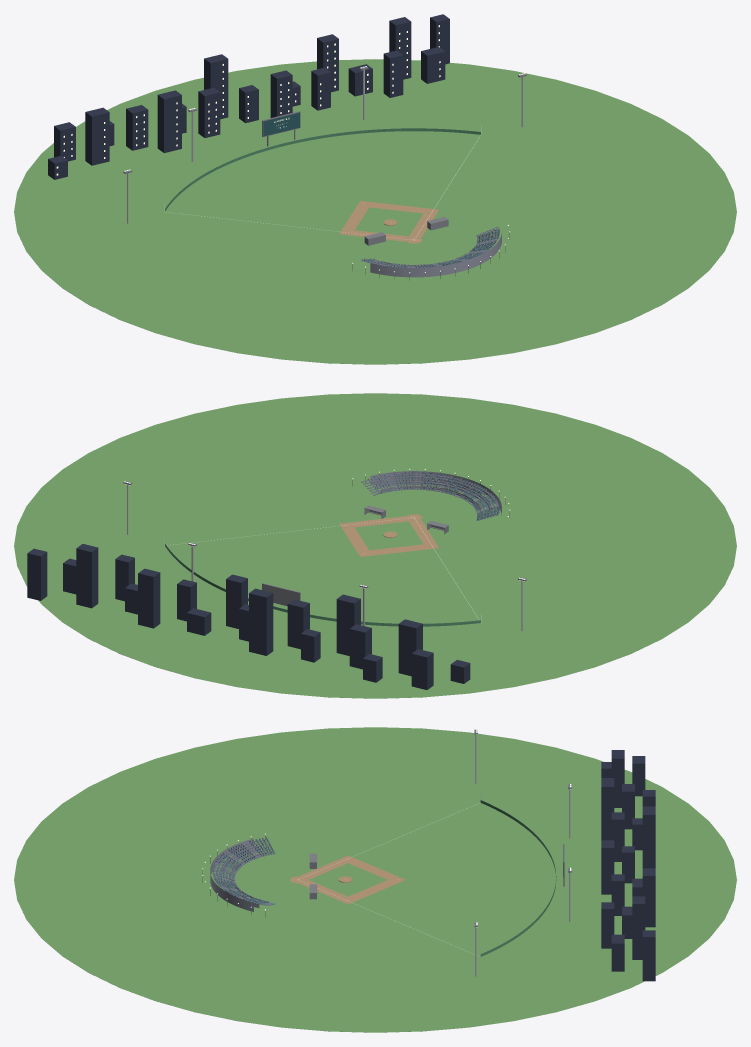
File: lantern-field.glb
3 renders of one model, top to bottom at view 1: azimuth 30°, elevation 25°; view 2: azimuth 150°, elevation 25°; view 3: azimuth 270°, elevation 25°, orthographic.
Parts seen in each view (by area): view 1: grass_outfield, park_batch_mat_skyline, infield_dirt, infield_grass, stands_tier_2, outfield_fence, park_batch_mat_park_seating, park_batch_mat_park_teal; view 2: grass_outfield, park_batch_mat_skyline, park_batch_mat_park_concrete, infield_dirt, infield_grass, park_batch_mat_park_seating, stands_tier_2, outfield_fence; view 3: grass_outfield, park_batch_mat_skyline, infield_dirt, infield_grass, park_batch_mat_park_concrete, park_batch_mat_park_seating, stands_tier_2, outfield_fence.
Boxes of the visible parts, bbox=[...] form: grass_outfield: bbox=[14, 59, 736, 364]; park_batch_mat_skyline: bbox=[48, 14, 449, 179]; infield_dirt: bbox=[339, 200, 438, 241]; infield_grass: bbox=[355, 207, 423, 236]; stands_tier_2: bbox=[370, 233, 501, 277]; outfield_fence: bbox=[165, 128, 480, 211]; park_batch_mat_park_seating: bbox=[362, 229, 499, 267]; park_batch_mat_park_teal: bbox=[263, 112, 299, 136]; grass_outfield: bbox=[14, 393, 736, 698]; park_batch_mat_skyline: bbox=[27, 544, 470, 689]; park_batch_mat_park_concrete: bbox=[361, 473, 499, 520]; infield_dirt: bbox=[339, 516, 438, 556]; infield_grass: bbox=[355, 521, 423, 550]; park_batch_mat_park_seating: bbox=[367, 472, 499, 519]; stands_tier_2: bbox=[370, 471, 501, 514]; outfield_fence: bbox=[165, 544, 480, 626]; grass_outfield: bbox=[14, 727, 736, 1032]; park_batch_mat_skyline: bbox=[601, 750, 655, 981]; infield_dirt: bbox=[298, 855, 405, 904]; infield_grass: bbox=[309, 863, 387, 896]; park_batch_mat_park_concrete: bbox=[212, 839, 275, 905]; park_batch_mat_park_seating: bbox=[213, 837, 274, 903]; stands_tier_2: bbox=[210, 838, 253, 911]; outfield_fence: bbox=[480, 800, 556, 956].
Bounding box in the file's own units: 280 × 25.04 × 280.
